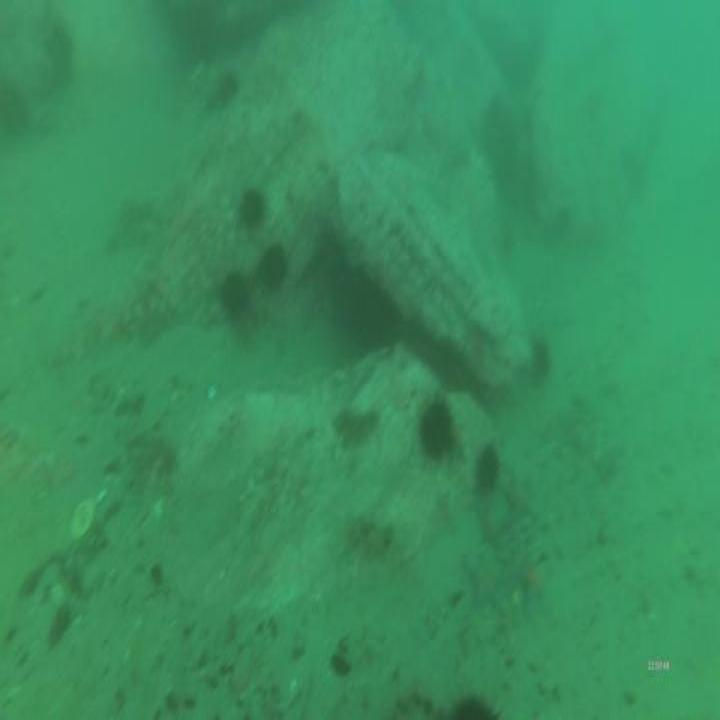echinus: (414, 391, 458, 468), (45, 20, 77, 98), (471, 437, 506, 505), (0, 78, 30, 148), (218, 267, 253, 325), (449, 681, 500, 720), (234, 185, 269, 235), (259, 244, 289, 295), (529, 332, 554, 390), (211, 68, 240, 110)
holothurian: (340, 510, 396, 567), (330, 398, 381, 457)
starfish: (466, 553, 510, 620), (510, 546, 549, 608), (499, 466, 539, 524), (472, 496, 508, 555)
